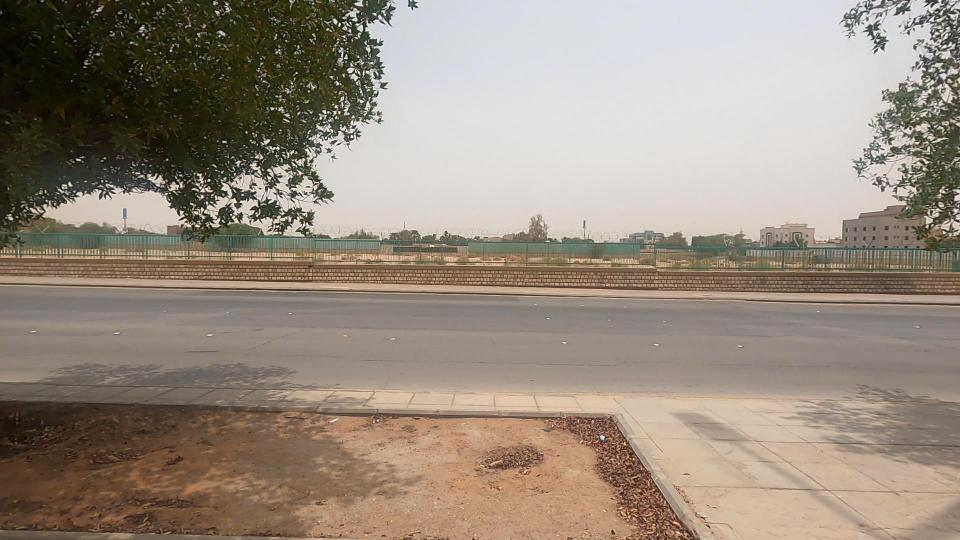CLUTTER_SIDEWALK: (0, 320, 880, 540)
